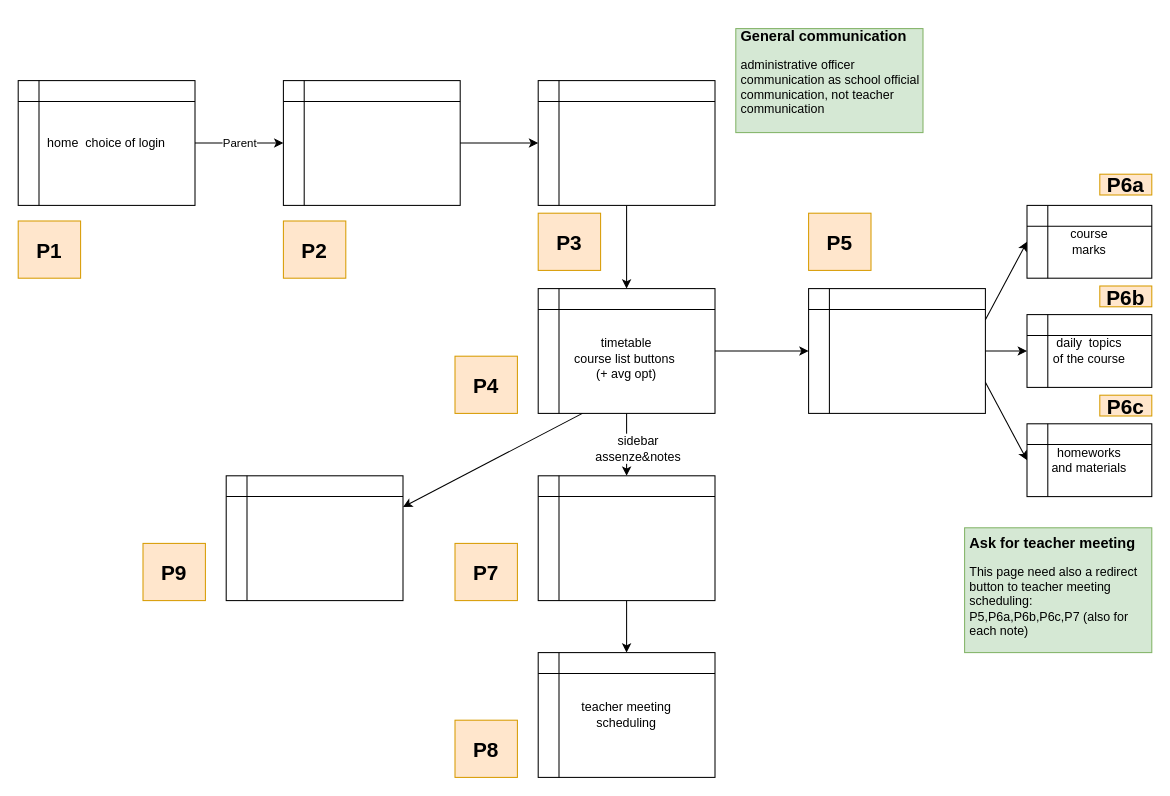
Some shapes in this 1170 by 796 pixel diagram are drawn without their labels. Each missing label, with the centre of its shape:
after choice the course parents have to select what they want: (896,350)
button for childs and general communication at the bottom: (626,142)
list of all marks: (314,538)
list of req meeting + list of notes + list of assenze: (626,538)
parents login: (371,142)
